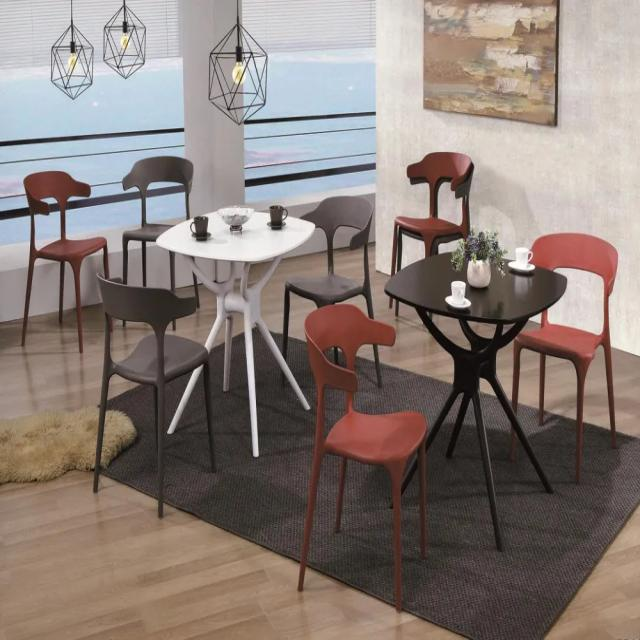Chair: (289, 294, 436, 622), (88, 266, 222, 539), (510, 214, 629, 493), (278, 186, 388, 392), (15, 165, 117, 361), (386, 133, 480, 322), (112, 152, 208, 327)
